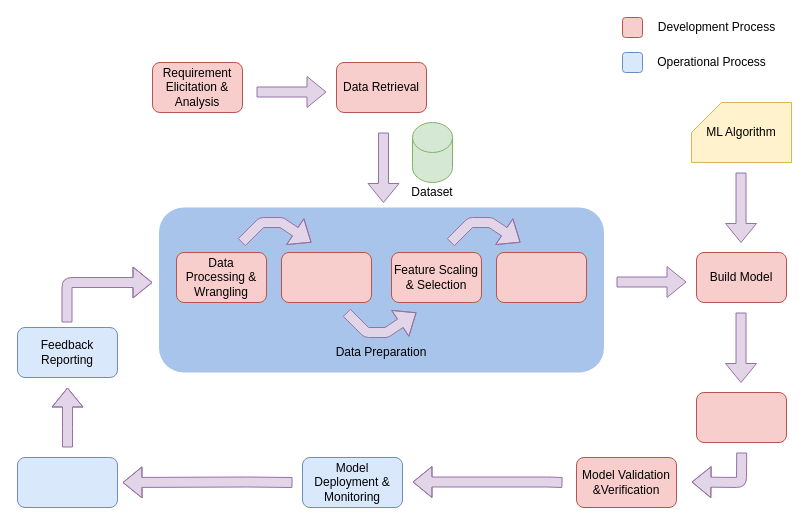
The diagram is 809 pixels wide and 525 high, and some of its shapes have lost their labels. Here are the shapes that lost their labels. From the top down, the box of each, then its label:
(280, 252, 372, 302): Feature Extraction & Engineering
(496, 252, 586, 302): Data Balancing
(696, 392, 786, 442): Model Training & Testing
(16, 456, 118, 508): Analysis & Statistics
